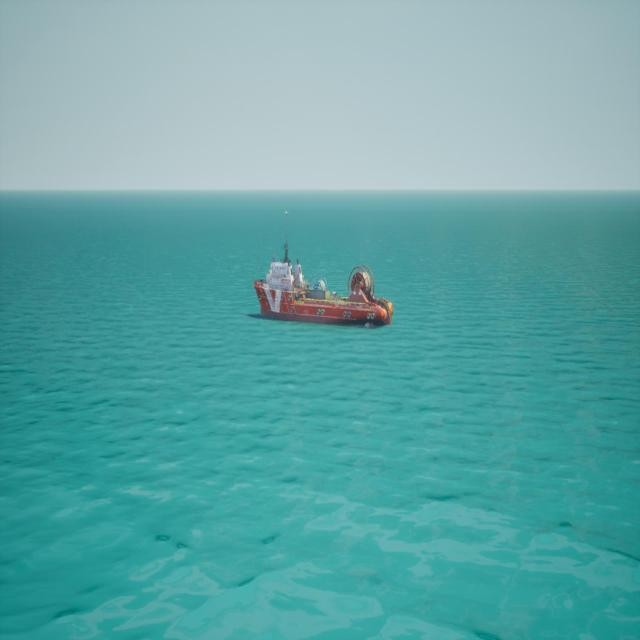tug boat: (251, 239, 395, 331)
